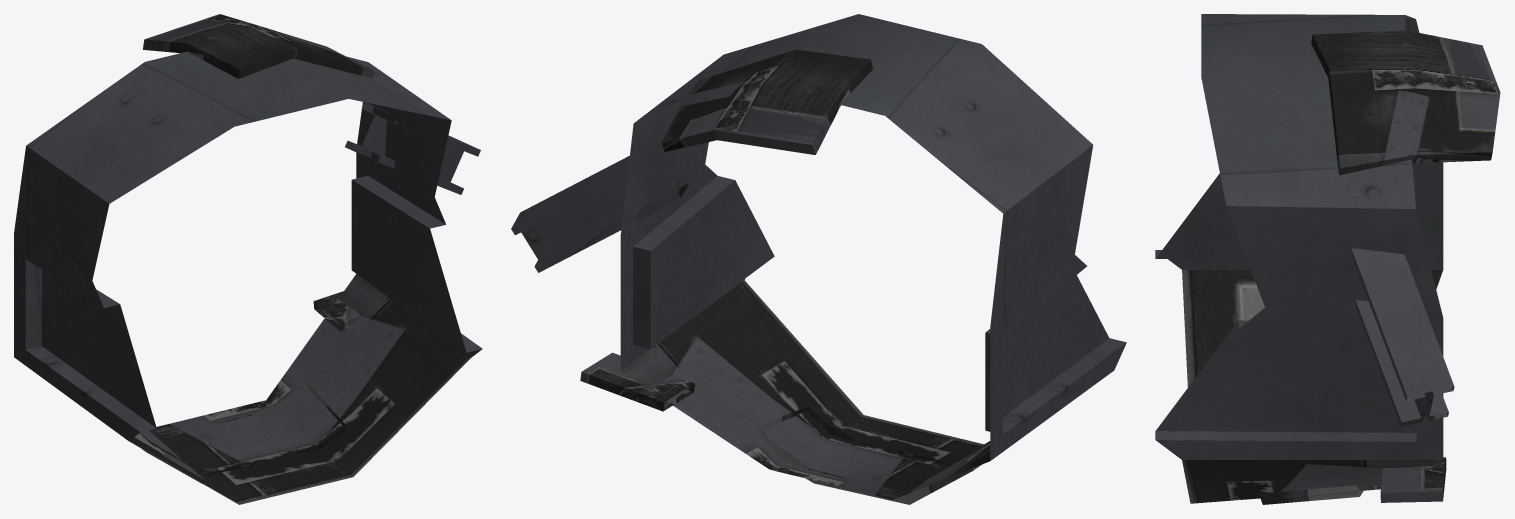
File: HCD9.fbx
The picture shows the model from 3 angles, left to right: view 1: azimuth 30°, elevation 25°; view 2: azimuth 150°, elevation 25°; view 3: azimuth 270°, elevation 25°; orthographic projection. The views are drawn at different scales.
Parts seen in each view (by area): view 1: nineD; view 2: nineD; view 3: nineD.
Part boxes in pixels (x1,y1,x2,y2): nineD: [14, 14, 482, 504]; nineD: [511, 14, 1126, 504]; nineD: [1155, 14, 1500, 504].
Bounding box in the file's own units: 7838 × 6402 × 4563.
Materials: 1 (1 with a texture image).
